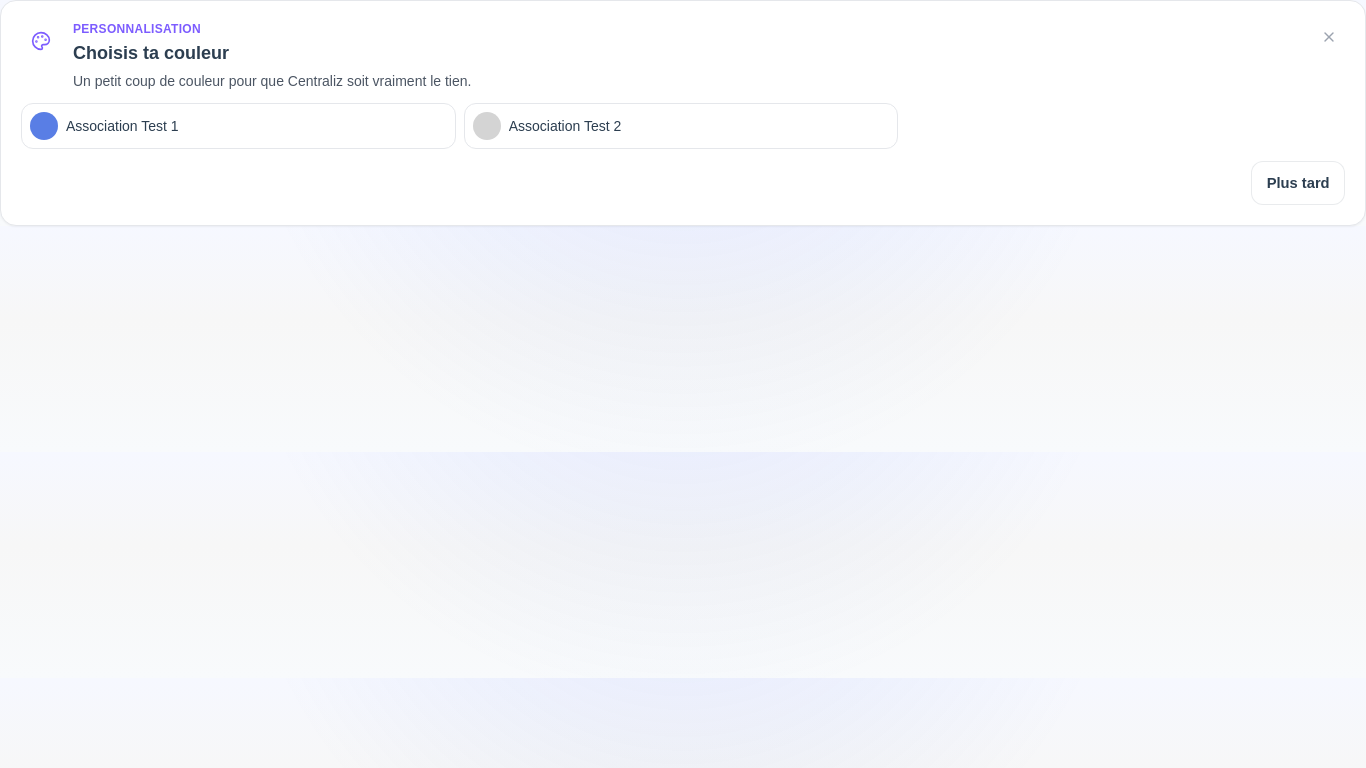
AccentColorCard › shows an error and keeps the card visible when saving fails
Check: the text "Association Test 1" is shown, box [66, 116, 179, 136]
What coordinates should you click on to do the following:
click the button "Association Test 1"
I would click on:
 (122, 126)
Its box is [21, 103, 456, 149].
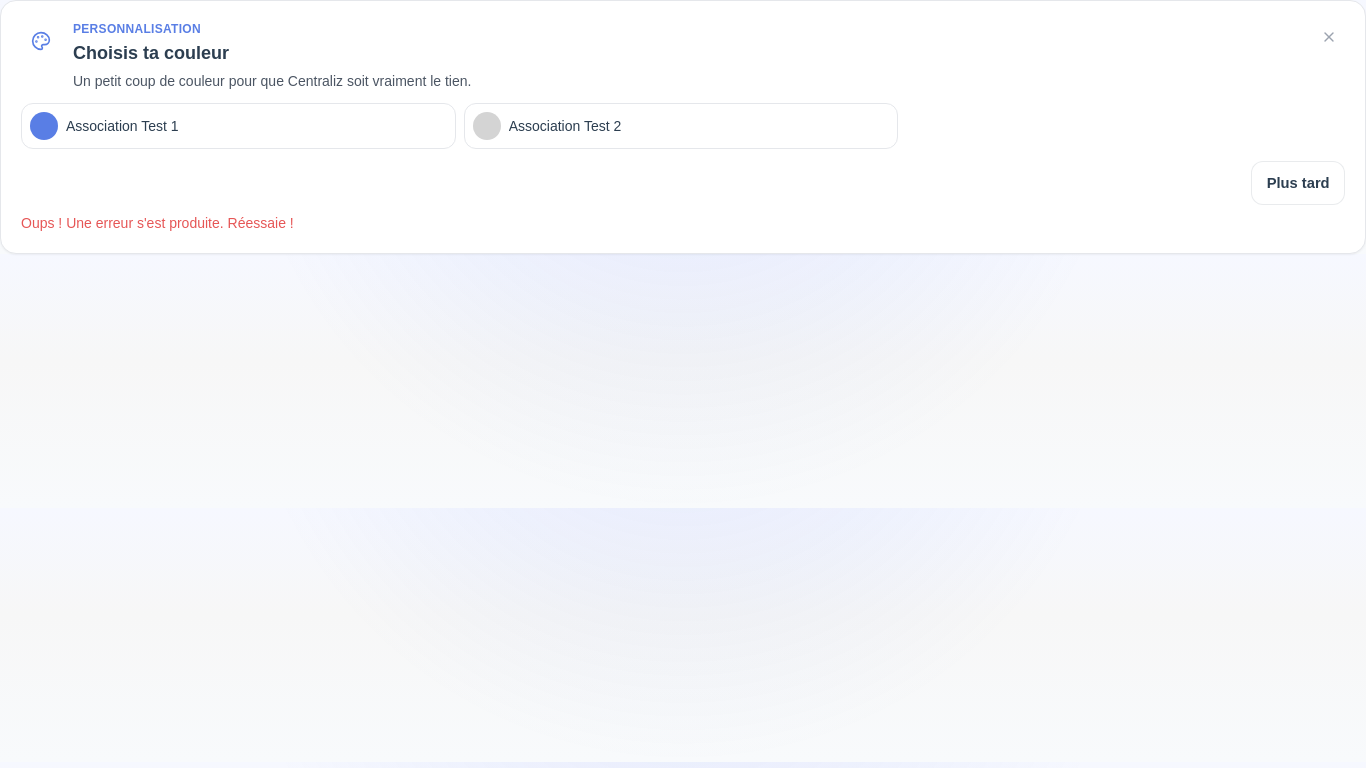
Check: the text "Association Test 1" is shown, box [66, 116, 179, 136]
Check: the text "Oups ! Une erreur s'est produite. Réessaie !" is shown, box [21, 215, 294, 231]
